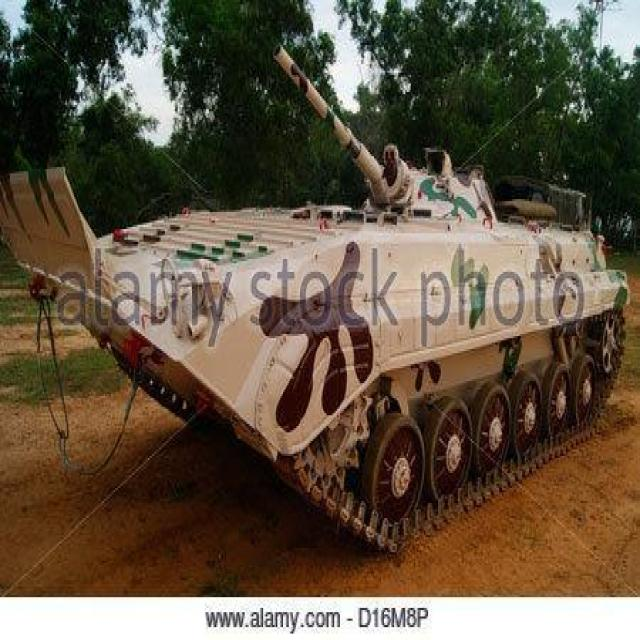Tanks: (21, 82, 564, 562)
